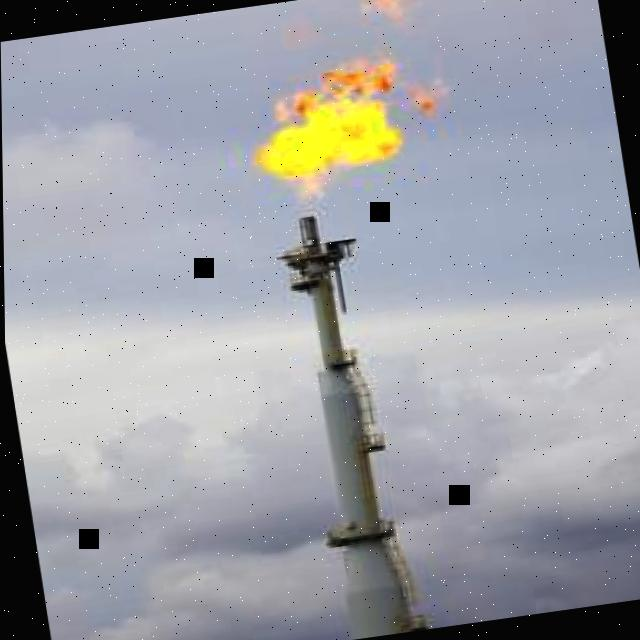fire: (255, 60, 404, 199), (401, 85, 436, 117), (360, 0, 405, 21)
